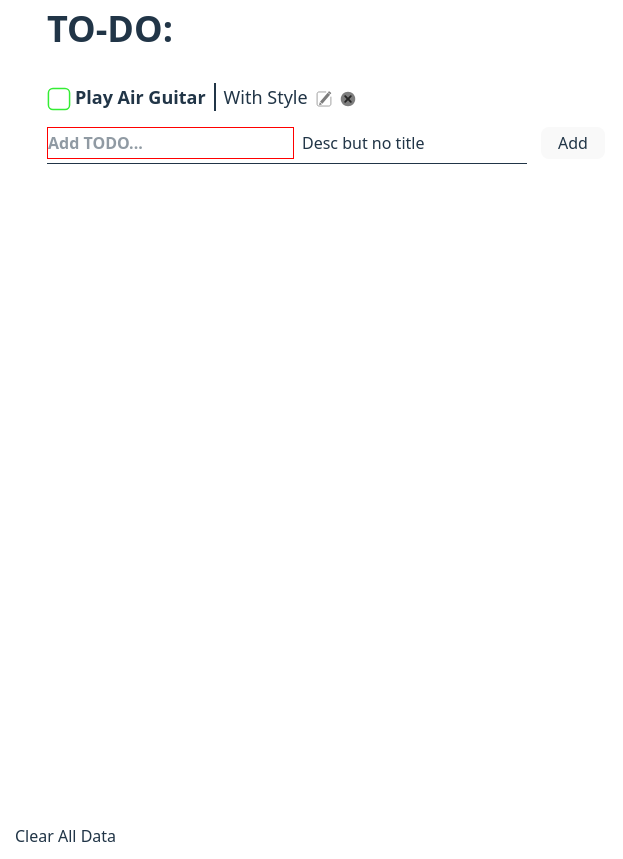
Test case: App › should delete the item
This screenshot has width=623, height=859.
Expected: the text "Play Air Guitar" is shown, [75, 85, 206, 109]
Click the icon with test id "delete-icon" at (348, 99), box [340, 91, 356, 107]
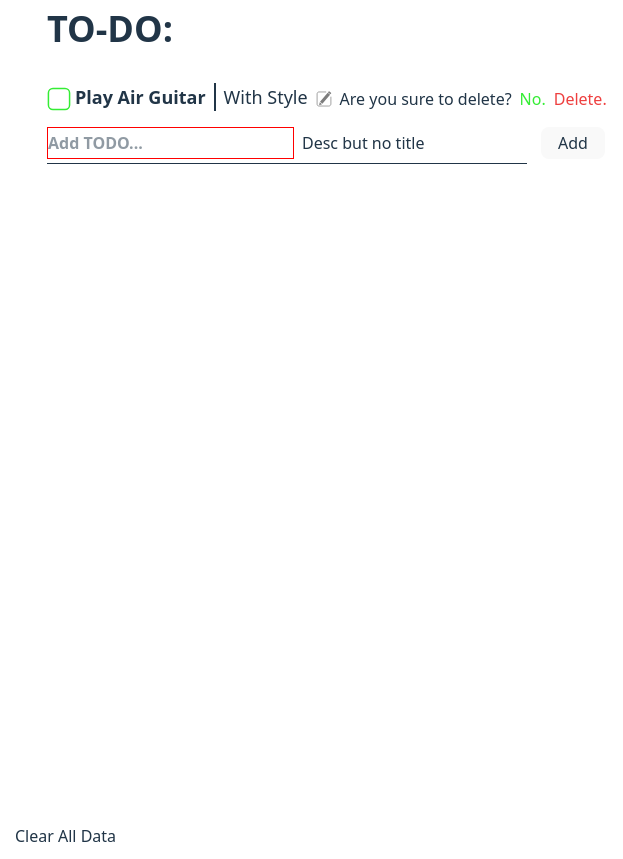
Result: the link "No." is shown
Click the link "No." at (533, 99), box [520, 87, 546, 111]
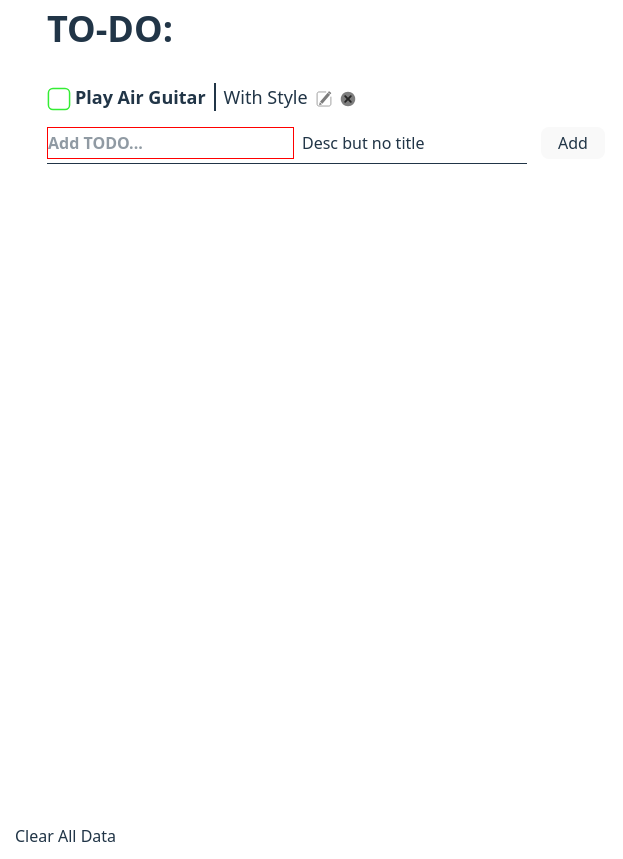
Click the icon with test id "delete-icon" at (348, 99), box [340, 91, 356, 107]
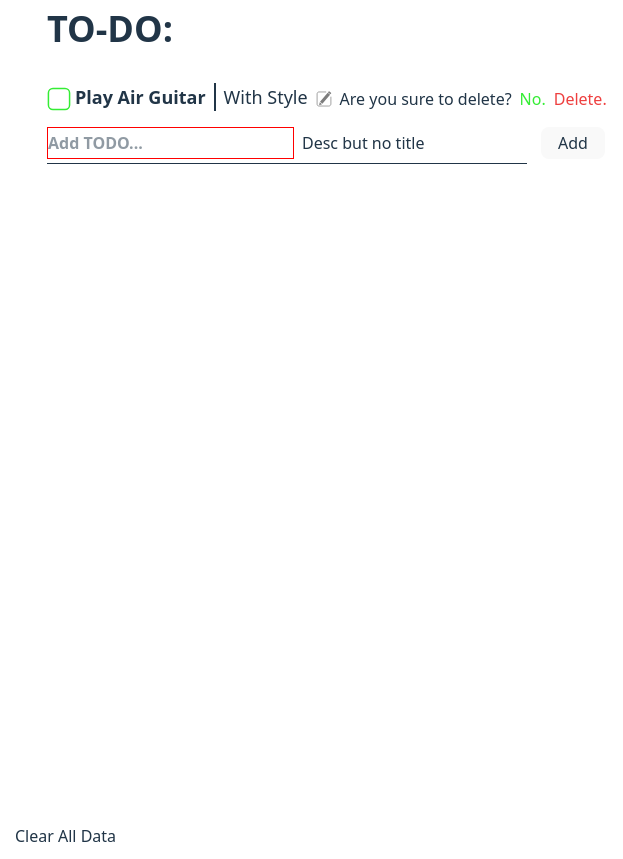
Result: the link "Delete." is shown
Click the link "Delete." at (580, 99), box [554, 87, 607, 111]
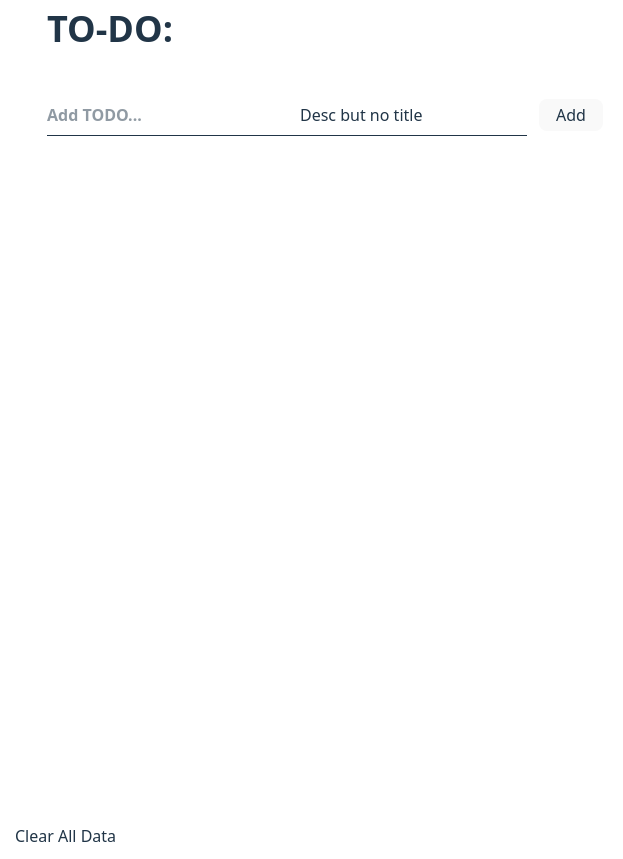
Result: the text "Play Air Guitar" is gone
